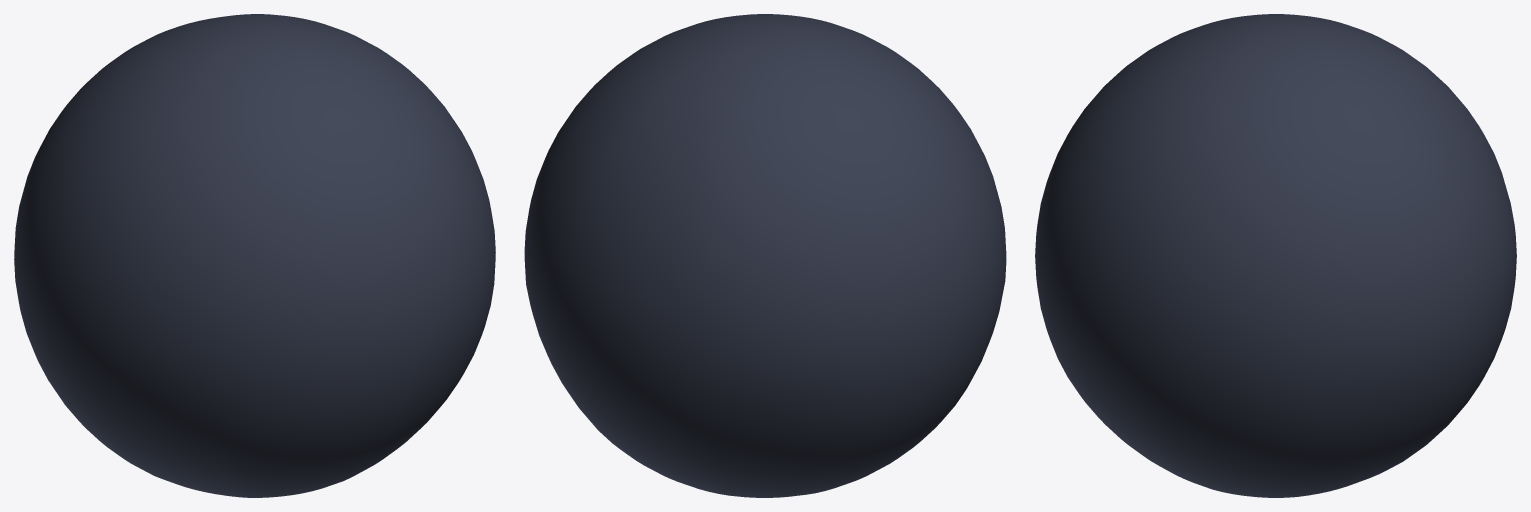
File: ball9.fbx
3 views of the same model, side by side, from view 1: azimuth 30°, elevation 25°; view 2: azimuth 150°, elevation 25°; view 3: azimuth 270°, elevation 25° (orthographic).
Visible parts, largest first — view 1: ball9; view 2: ball9; view 3: ball9.
Part boxes in pixels (left/top/right/bottom): ball9: left=14, top=14, right=495, bottom=497; ball9: left=524, top=14, right=1006, bottom=497; ball9: left=1035, top=14, right=1516, bottom=497.
Size of the model in its own units: 0.6477 by 0.6545 by 0.6477.
